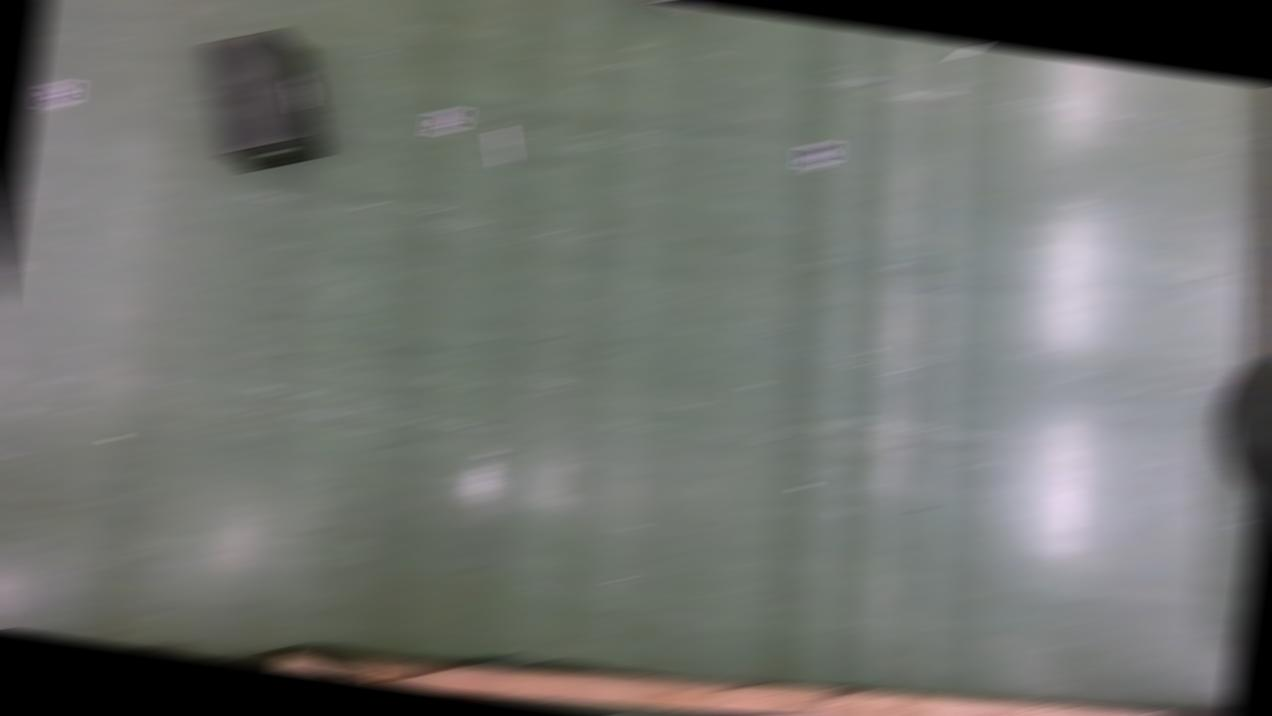probes: (488, 131, 516, 167), (952, 43, 987, 61)
rako: (183, 22, 344, 182)
